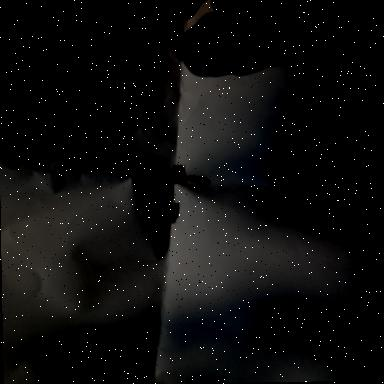pbw: (168, 202, 178, 224), (176, 164, 186, 184), (189, 176, 207, 186), (170, 166, 178, 184)
